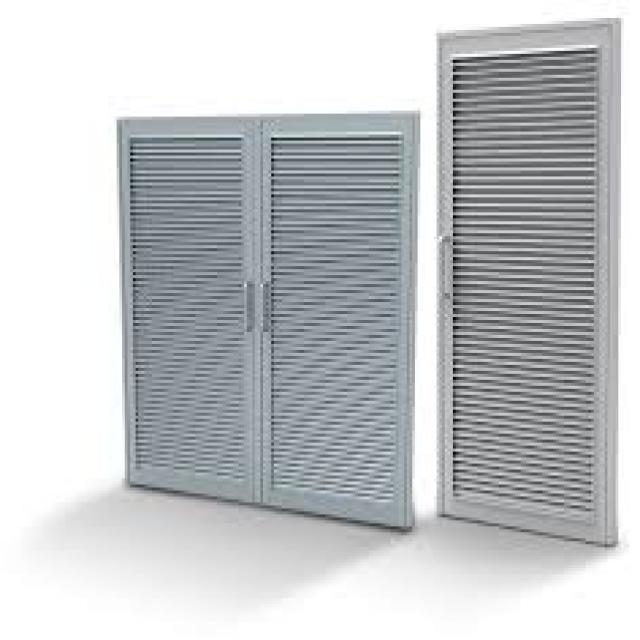door: (118, 109, 419, 531)
